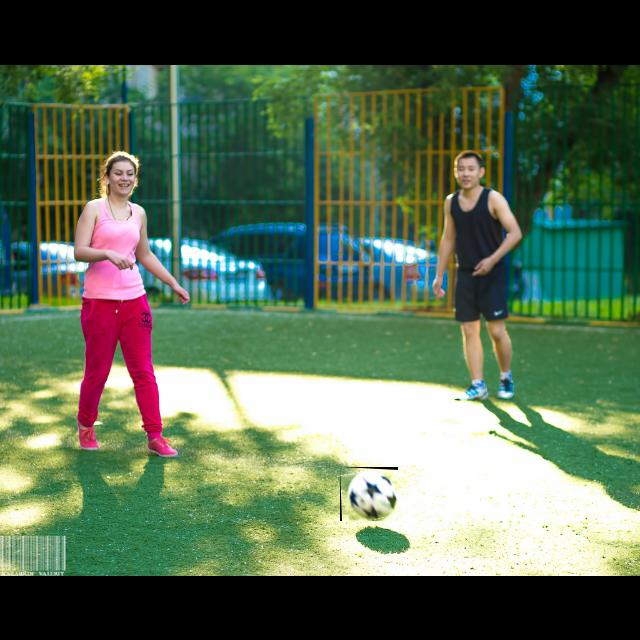Football: (340, 467, 398, 521)
